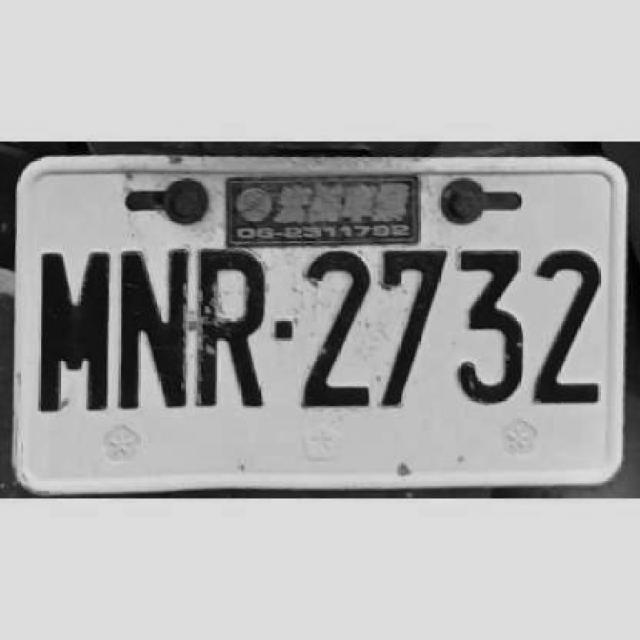-: (274, 317, 297, 338)
2: (529, 244, 603, 416), (298, 244, 369, 418)
3: (450, 241, 524, 414)
7: (377, 245, 445, 412)
M: (40, 251, 109, 412)
N: (119, 251, 190, 409)
R: (195, 244, 263, 416)
